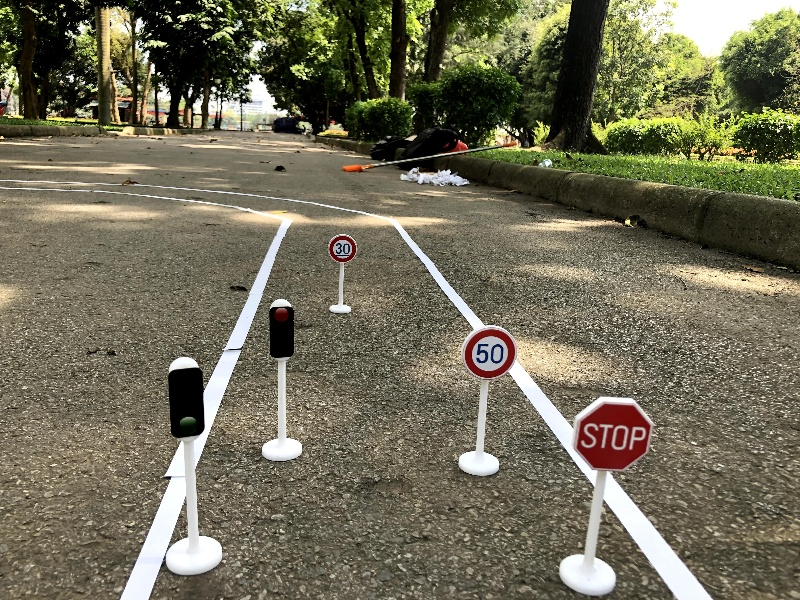Bien_bao_30: (314, 227, 376, 321)
Bien_bao_50: (449, 320, 523, 485)
Den_Do: (247, 294, 312, 473)
Den_Xanh: (138, 354, 236, 583)
Stop: (551, 387, 656, 600)
